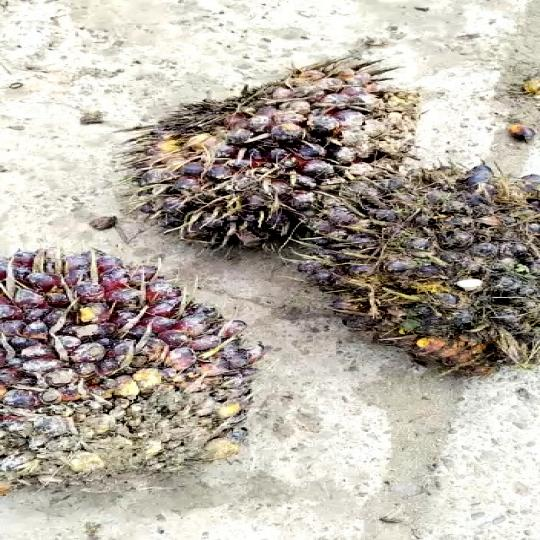kurang masak: (0, 249, 288, 496), (124, 63, 430, 239), (297, 165, 540, 374)
